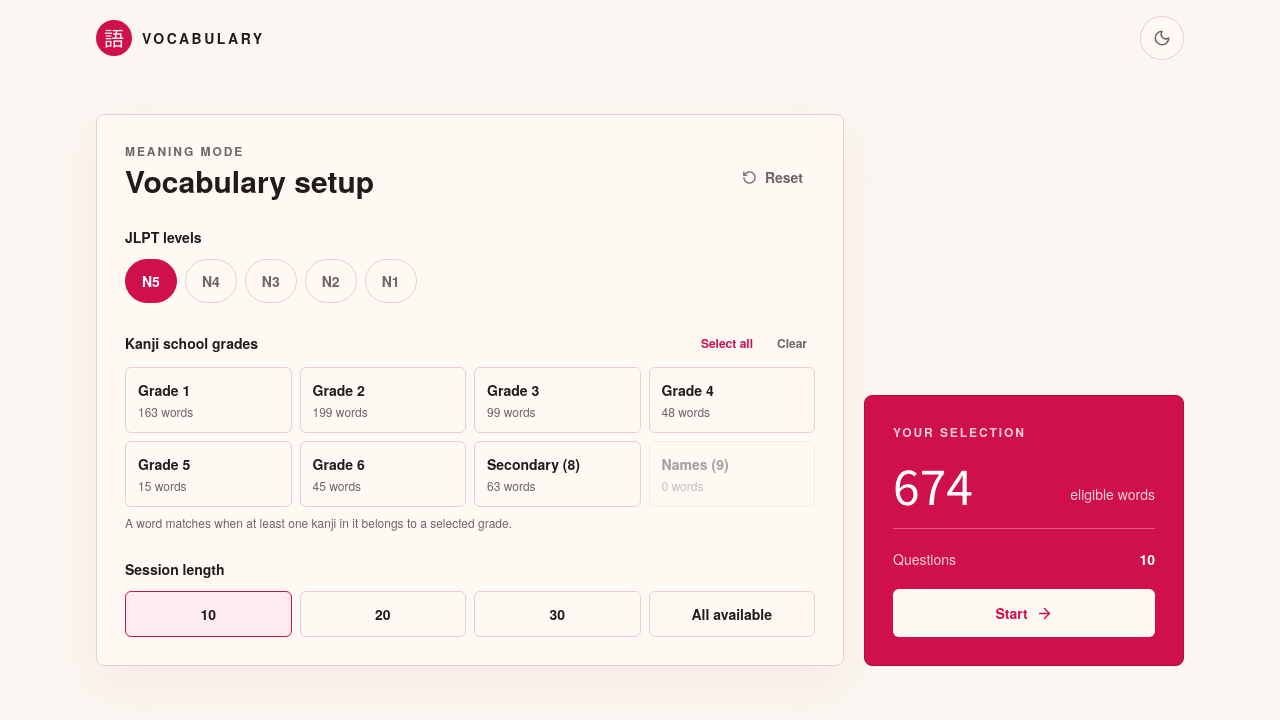
Scenario: vocabulary setup › does not start if no level or enough eligible words are selected
This screenshot has width=1280, height=720.
Expected: the button "Start" is enabled, [893, 589, 1155, 637]
Step 1. Click the button "N5" → (151, 281), box [125, 259, 177, 303]
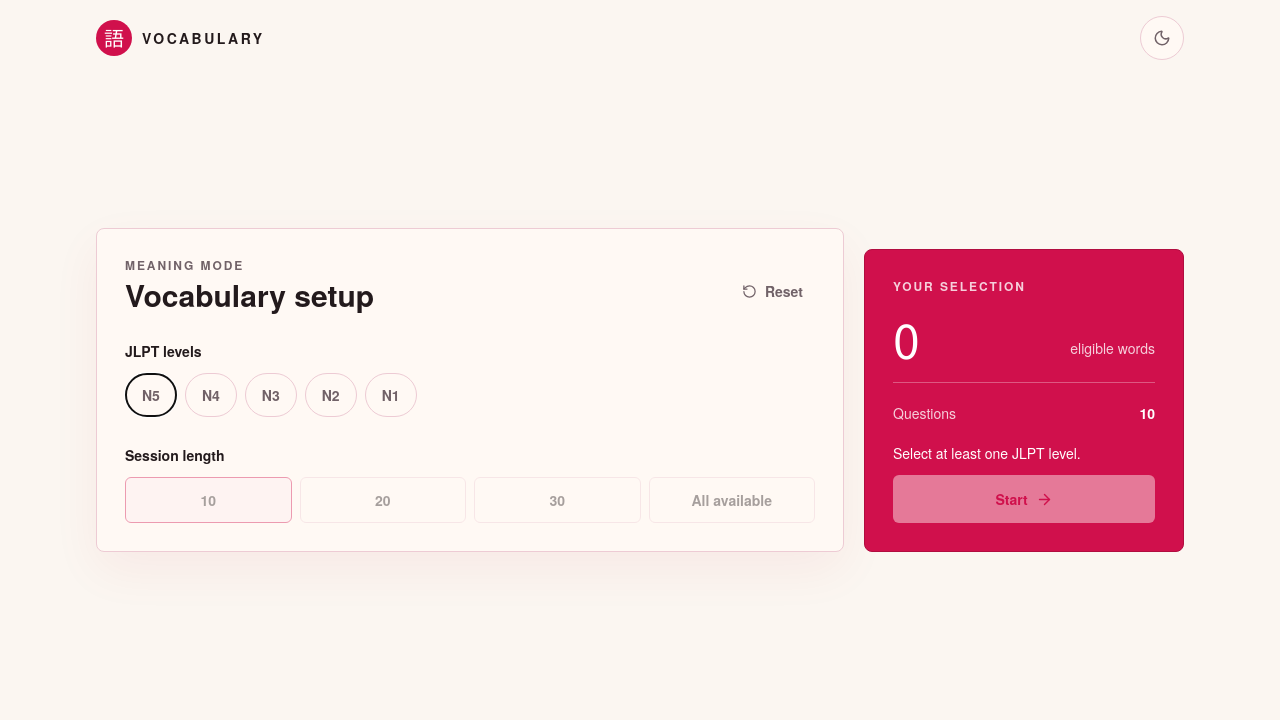
Now the button "Start" is disabled, box [893, 475, 1155, 523]
Now the text "Select at least one JLPT level." is shown, box [893, 443, 1081, 463]
